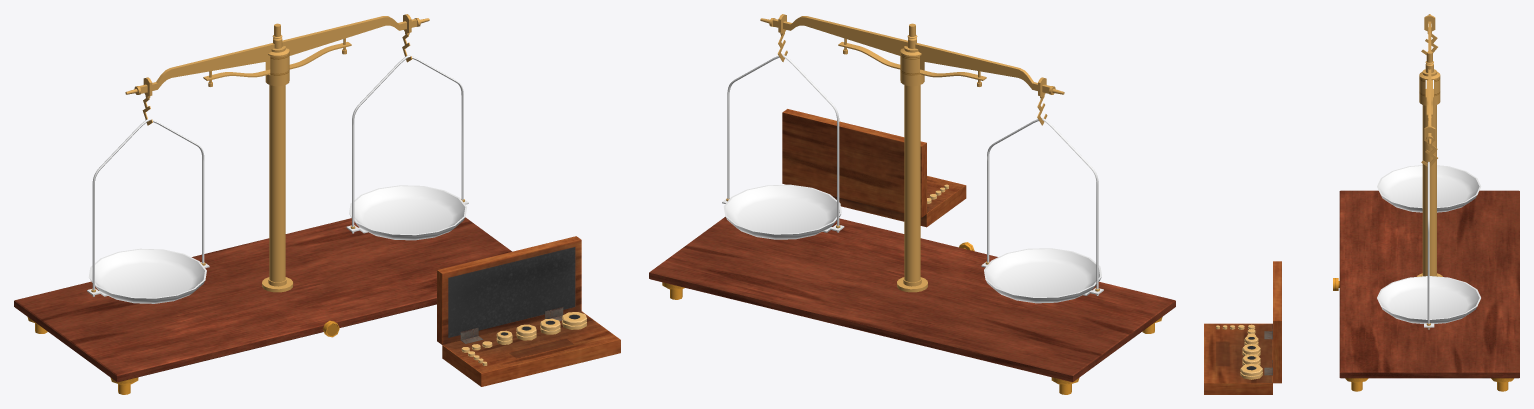
Rendered from timbanganmg 1.fbx.
The picture shows the model from 3 angles, left to right: view 1: azimuth 30°, elevation 25°; view 2: azimuth 150°, elevation 25°; view 3: azimuth 270°, elevation 25°; orthographic projection. The views are drawn at different scales.
Visible parts, largest first — view 1: table, BalanceScale_WeightSetBackPanel, Balance_WeightRight, Balance_WeightLeft, BalanceScale_WeightSetTray, Balance_CenterPole, Balance_ScaleBeam, Balance_SupportRod; view 2: table, BalanceScale_WeightSetBackPanel, Balance_WeightRight, Balance_WeightLeft, Balance_CenterPole, Balance_ScaleBeam, BalanceScale_WeightSetTray, Balance_SupportRod; view 3: table, Balance_WeightRight, BalanceScale_WeightSetTray, Balance_WeightLeft, Balance_CenterPole, BalanceScale_WeightSetBackPanel, Balance_ScaleBeam, Weight_500g.
Part boxes in pixels (left/top/right/bottom): table: left=14, top=217, right=511, bottom=394; BalanceScale_WeightSetBackPanel: left=437, top=236, right=581, bottom=344; Balance_WeightRight: left=346, top=14, right=468, bottom=240; Balance_WeightLeft: left=87, top=77, right=209, bottom=303; BalanceScale_WeightSetTray: left=442, top=311, right=620, bottom=386; Balance_CenterPole: left=262, top=23, right=293, bottom=292; Balance_ScaleBeam: left=125, top=16, right=429, bottom=94; Balance_SupportRod: left=203, top=38, right=351, bottom=86; table: left=649, top=217, right=1175, bottom=394; BalanceScale_WeightSetBackPanel: left=782, top=109, right=926, bottom=217; Balance_WeightRight: left=722, top=14, right=844, bottom=239; Balance_WeightLeft: left=981, top=77, right=1103, bottom=303; Balance_CenterPole: left=897, top=23, right=927, bottom=292; Balance_ScaleBeam: left=760, top=16, right=1064, bottom=94; BalanceScale_WeightSetTray: left=832, top=176, right=966, bottom=227; Balance_SupportRod: left=838, top=38, right=986, bottom=86; table: left=1333, top=190, right=1519, bottom=391; Balance_WeightRight: left=1377, top=126, right=1480, bottom=329; BalanceScale_WeightSetTray: left=1204, top=323, right=1272, bottom=394; Balance_WeightLeft: left=1377, top=15, right=1481, bottom=212; Balance_CenterPole: left=1417, top=51, right=1442, bottom=276; BalanceScale_WeightSetBackPanel: left=1264, top=261, right=1281, bottom=383; Balance_ScaleBeam: left=1425, top=14, right=1433, bottom=145; Weight_500g: left=1240, top=363, right=1262, bottom=379.
Bounding box in the file's own units: 82.94 × 53.73 × 60.69.
